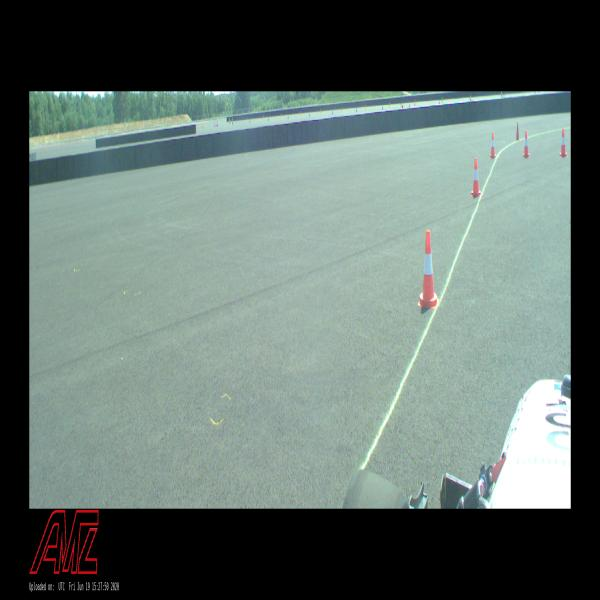orange_cone: (418, 230, 438, 308), (471, 158, 481, 197), (560, 129, 568, 157), (523, 131, 530, 157), (490, 132, 496, 158)
